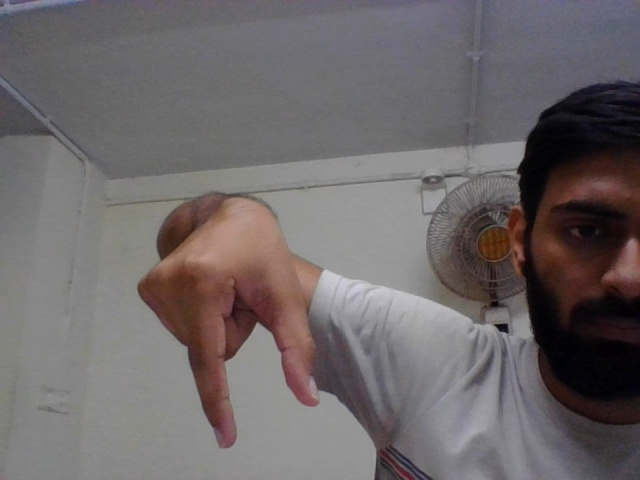Q: (134, 227, 327, 453)
